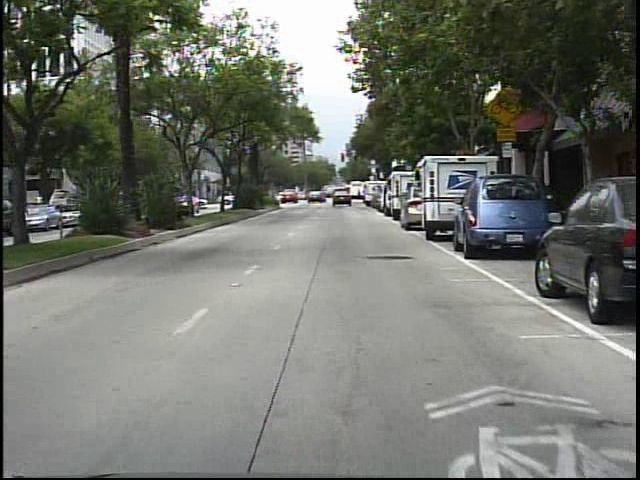person: (356, 183, 364, 204)
